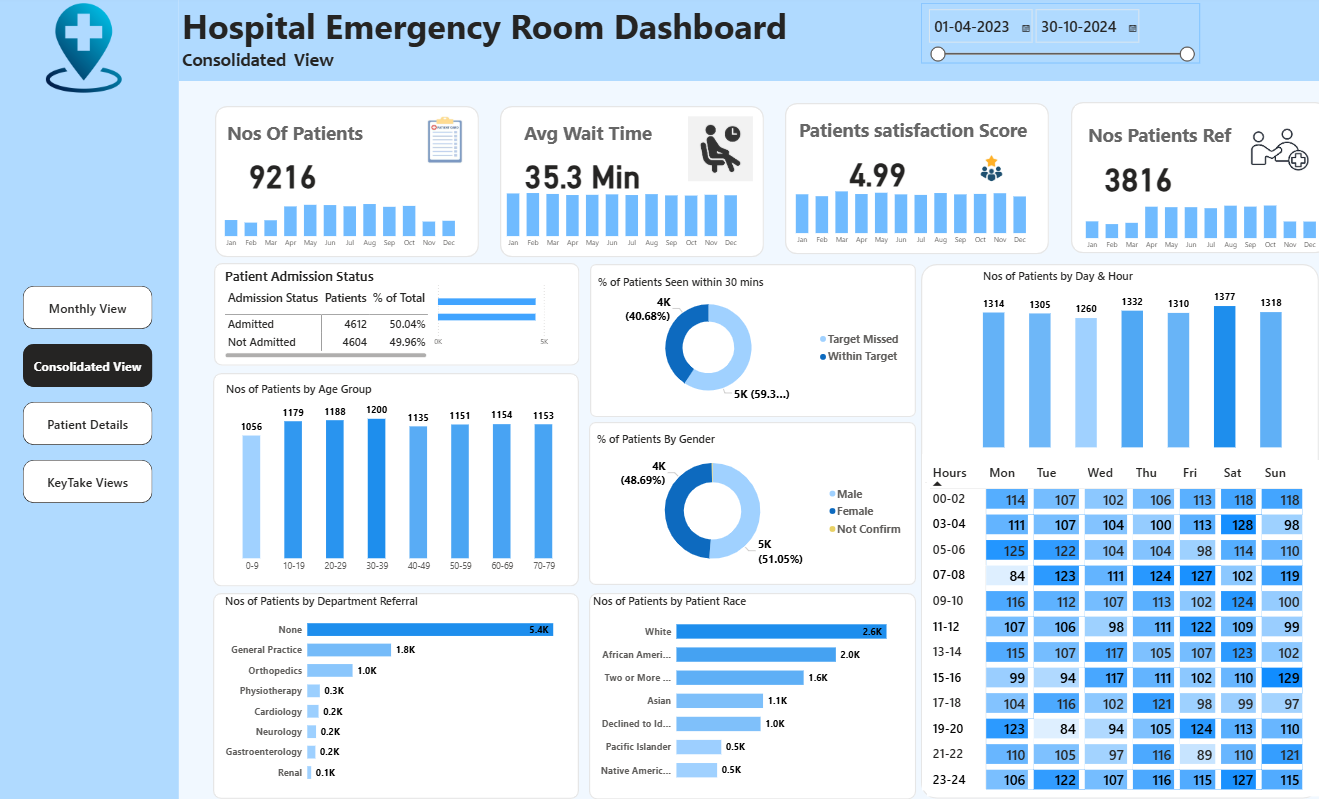

The dashboard page shown, as its layout file describes it:
{"tool":"powerbi","page":{"name":"Consolidated View","canvas":[2300,1400],"ordinal":1},"visuals":[{"type":"shape","box":[10.8,0,310,1400.1],"z":0},{"type":"shape","box":[320.7,0,1979.3,139.7],"z":1000},{"type":"textbox","box":[320.6,0,1063.1,210.1],"z":2000},{"type":"slicer","fields":{"Values":["Date Table.Date"]},"box":[1600.5,5.6,481.3,104.5],"z":3000},{"type":"shape","box":[383.1,182,455,260.8],"z":6000},{"type":"card","fields":{"Values":["Measure Table.Nos of Patients"]},"box":[425.7,251.8,146.7,92.4],"z":7000},{"type":"textbox","box":[398.5,201.1,255.4,56.1],"z":8000},{"type":"columnChart","fields":{"Category":["Date Table.Month Name"],"Y":["Measure Table.Nos of Patients"]},"box":[380.4,311.6,434.6,125],"z":9000},{"type":"shape","box":[874.7,182,455,260.8],"z":10000},{"type":"card","fields":{"Values":["Measure Table.Avg Wait Time"]},"box":[910.9,251.7,211.9,92.4],"z":11000},{"type":"textbox","box":[911,201.1,255.4,56.1],"z":12000},{"type":"columnChart","fields":{"Category":["Date Table.Month Name"],"Y":["Avg(Hospital ER_Data.Patient Waittime)"]},"box":[867.5,311.5,434.6,125],"z":13000},{"type":"shape","box":[1366.4,178.4,455,260.8],"z":14000},{"type":"card","fields":{"Values":["Measure Table.Patient Satisfaction Score"]},"box":[1452.5,248.2,146.7,92.4],"z":15000},{"type":"textbox","box":[1384.5,196.6,415.5,56.9],"z":16000},{"type":"columnChart","fields":{"Category":["Date Table.Month Name"],"Y":["Avg(Hospital ER_Data.Patient Satisfaction Score)"]},"box":[1365.5,306.1,434.6,125],"z":17000},{"type":"shape","box":[1858,175.7,442,260.8],"z":18000},{"type":"textbox","box":[1883.5,204.6,300.6,56.1],"z":19000},{"type":"columnChart","fields":{"Category":["Date Table.Month Name"],"Y":["Measure Table.Nos Of patient Ref"]},"box":[1865.4,315.2,434.6,125],"z":20000},{"type":"card","fields":{"Values":["Measure Table.Nos Of patient Ref"]},"box":[1901.6,256.4,145.7,92.2],"z":21000},{"type":"shape","box":[380.2,453.9,630,177],"z":22000},{"type":"pivotTable","title":"Patient Admission Status","fields":{"Rows":["Hospital ER_Data.Admission Status"],"Values":["Measure Table.Nos of Patients1","Measure Table.Nos of Patients"]},"box":[394.8,462.1,360.3,160.3],"z":23000},{"type":"barChart","fields":{"Category":["Hospital ER_Data.Admission Status"],"Y":["Measure Table.Nos of Patients"]},"box":[755.2,477.6,243.1,129.3],"z":24000},{"type":"shape","box":[379.3,643.1,631,368],"z":25000},{"type":"clusteredColumnChart","fields":{"Category":["Hospital ER_Data.Age Group"],"Y":["Measure Table.Nos of Patients"]},"box":[396.6,656.9,603.4,339.7],"z":26000},{"type":"shape","box":[379.3,1022.4,631,355.2],"z":27000},{"type":"clusteredBarChart","fields":{"Category":["Hospital ER_Data.Department Referral"],"Y":["Measure Table.Nos of Patients"]},"box":[394.5,1021.6,604.8,340.5],"z":28000},{"type":"shape","box":[1030,456,562,264],"z":29000},{"type":"donutChart","title":"% of Patients Seen within 30 mins","fields":{"Category":["Hospital ER_Data.Wait Time"],"Y":["Measure Table.Nos of Patients"]},"box":[1038,472,538,228],"z":30000},{"type":"shape","box":[1027.3,726.9,563.8,281],"z":31000},{"type":"donutChart","title":"% of Patients By Gender","fields":{"Category":["Hospital ER_Data.Patient Gender"],"Y":["Measure Table.Nos of Patients"]},"box":[1036.8,742.7,543.7,250.4],"z":32000},{"type":"shape","box":[1028,1022,564,356],"z":33000},{"type":"clusteredBarChart","fields":{"Category":["Hospital ER_Data.Patient Race"],"Y":["Measure Table.Nos of Patients"]},"box":[1030,1022,546,340],"z":34000},{"type":"shape","box":[1600,456,686,922],"z":35000},{"type":"pivotTable","fields":{"Columns":["Date Table.Day Name"],"Rows":["Hospital ER_Data.WaitTime Interval"],"Values":["Measure Table.Nos of Patients"]},"box":[1600.9,782.4,675.5,579.5],"z":36000},{"type":"columnChart","title":"Nos of Patients by Day & Hour","fields":{"Category":["Date Table.Day Name"],"Y":["Measure Table.Nos of Patients"]},"box":[1701.2,462.6,527.9,315.2],"z":37000},{"type":"image","box":[37.9,5.2,236.2,155.2],"z":38000},{"type":"image","box":[720.7,196.6,117.2,91.4],"z":39000},{"type":"image","box":[1198.3,184.5,112.1,143.1],"z":40000},{"type":"image","box":[1681,239.7,81,101.7],"z":41000},{"type":"image","box":[2151.7,187.9,134.5,139.7],"z":42000},{"type":"pivotTable","fields":{"Columns":["Date Table.Day Name"],"Rows":["Hospital ER_Data.WaitTime Interval"],"Values":["Measure Table.Nos of Patients"]},"box":[1610.9,792.4,675.5,579.5],"z":42001},{"type":"pageNavigator","box":[51.9,492.3,223.1,375],"z":42002}]}

Visuals, with their boxes in screenshot pixels (x1, y1, x2, y2), scaled from the page's 2300x1400 canvas onto the 1319x799 screenshot:
shape: bbox(6, 0, 184, 798)
shape: bbox(184, 0, 1318, 80)
textbox: bbox(184, 0, 794, 120)
slicer - Date Table.Date: bbox(918, 3, 1194, 63)
shape: bbox(220, 104, 481, 253)
card - Measure Table.Nos of Patients: bbox(244, 144, 328, 196)
textbox: bbox(229, 115, 375, 147)
columnChart - Date Table.Month Name x Measure Table.Nos of Patients: bbox(218, 178, 467, 249)
shape: bbox(502, 104, 763, 253)
card - Measure Table.Avg Wait Time: bbox(522, 144, 644, 196)
textbox: bbox(522, 115, 669, 147)
columnChart - Date Table.Month Name x Avg(Hospital ER_Data.Patient Waittime): bbox(497, 178, 747, 249)
shape: bbox(784, 102, 1045, 251)
card - Measure Table.Patient Satisfaction Score: bbox(833, 142, 917, 194)
textbox: bbox(794, 112, 1032, 145)
columnChart - Date Table.Month Name x Avg(Hospital ER_Data.Patient Satisfaction Score): bbox(783, 175, 1032, 246)
shape: bbox(1066, 100, 1318, 249)
textbox: bbox(1080, 117, 1253, 149)
columnChart - Date Table.Month Name x Measure Table.Nos Of patient Ref: bbox(1070, 180, 1318, 251)
card - Measure Table.Nos Of patient Ref: bbox(1091, 146, 1174, 199)
shape: bbox(218, 259, 579, 360)
"Patient Admission Status" pivotTable: bbox(226, 264, 433, 355)
barChart - Hospital ER_Data.Admission Status x Measure Table.Nos of Patients: bbox(433, 273, 573, 346)
shape: bbox(218, 367, 579, 577)
clusteredColumnChart - Hospital ER_Data.Age Group x Measure Table.Nos of Patients: bbox(227, 375, 573, 569)
shape: bbox(218, 583, 579, 786)
clusteredBarChart - Hospital ER_Data.Department Referral x Measure Table.Nos of Patients: bbox(226, 583, 573, 777)
shape: bbox(591, 260, 913, 411)
"% of Patients Seen within 30 mins" donutChart: bbox(595, 269, 904, 400)
shape: bbox(589, 415, 912, 575)
"% of Patients By Gender" donutChart: bbox(595, 424, 906, 567)
shape: bbox(590, 583, 913, 786)
clusteredBarChart - Hospital ER_Data.Patient Race x Measure Table.Nos of Patients: bbox(591, 583, 904, 777)
shape: bbox(918, 260, 1311, 786)
pivotTable - Date Table.Day Name x Hospital ER_Data.WaitTime Interval: bbox(918, 447, 1305, 777)
"Nos of Patients by Day & Hour" columnChart: bbox(976, 264, 1278, 444)
image: bbox(22, 3, 157, 92)
image: bbox(413, 112, 481, 164)
image: bbox(687, 105, 751, 187)
image: bbox(964, 137, 1010, 195)
image: bbox(1234, 107, 1311, 187)
pivotTable - Date Table.Day Name x Hospital ER_Data.WaitTime Interval: bbox(924, 452, 1311, 783)
pageNavigator: bbox(30, 281, 158, 495)
